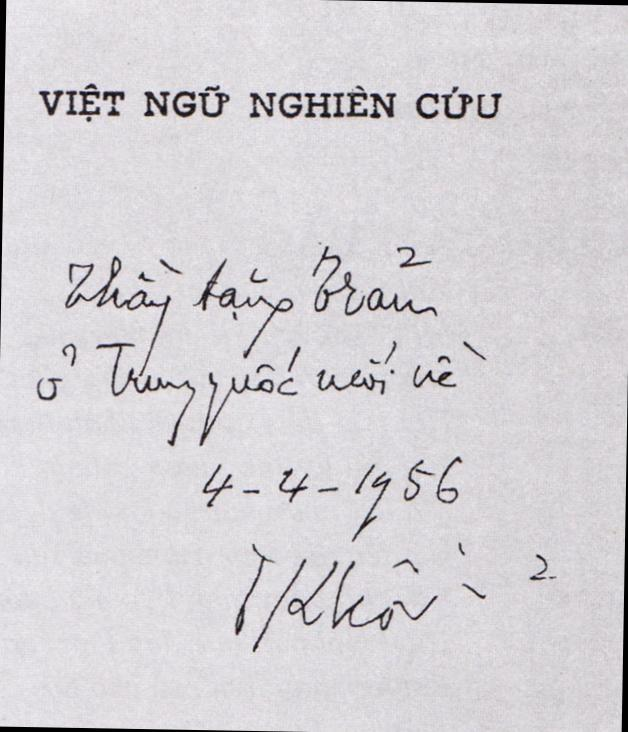text: (35, 330, 490, 456), (60, 234, 444, 381), (229, 538, 566, 662), (33, 72, 506, 132), (198, 445, 467, 547)
